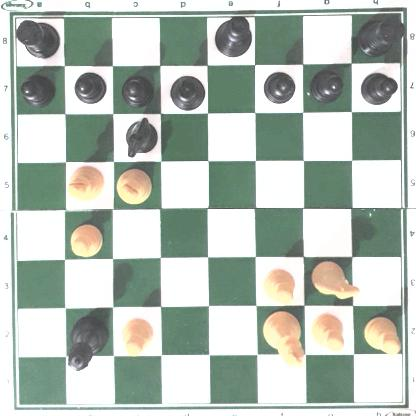black-bishop: (168, 75, 207, 112)
black-king: (212, 14, 253, 57)
black-knight: (123, 116, 158, 159)
black-pawn: (359, 69, 396, 105), (309, 68, 344, 102), (263, 68, 295, 103), (20, 72, 54, 104), (73, 70, 105, 104), (121, 72, 153, 106)
black-queen: (63, 313, 107, 372)
black-rook: (13, 15, 61, 58), (358, 13, 405, 55)
white-bishop: (115, 167, 153, 205), (66, 165, 105, 202)
white-king: (261, 310, 305, 368)
white-knight: (313, 260, 361, 300)
white-pawn: (309, 313, 346, 353), (261, 266, 298, 304), (119, 316, 154, 356), (363, 315, 400, 352), (67, 222, 104, 258)
